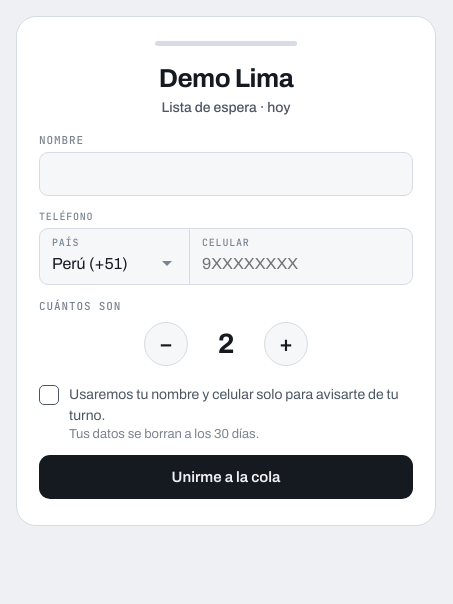
Scenario: JoinPage: errores al enviar › 429 con Retry-After 60s dice "en 1 minuto" (singular)
Check: the heading "Demo Lima" is shown, box [159,64,293,92]
Type "Ana Torres" into the field labelled "Nombre" at (226, 174), box [39,152,413,196]
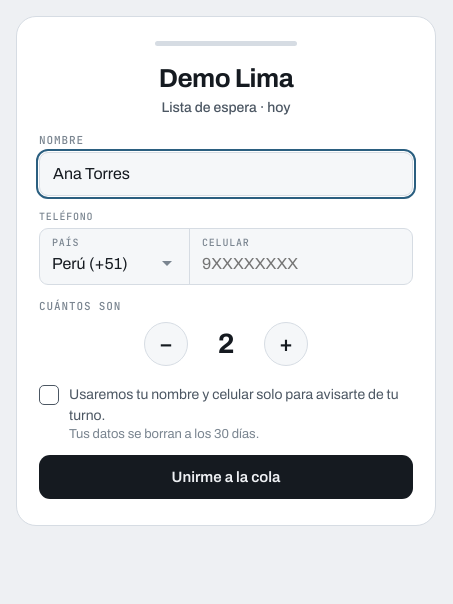
Type "987654321" into the field labelled "Celular" at (301, 264), box [202,251,400,277]
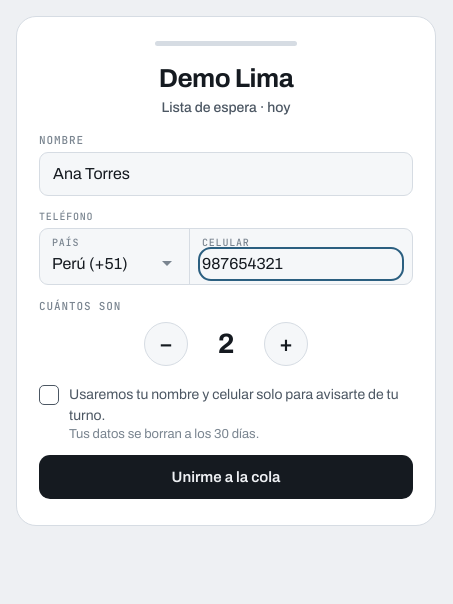
Click the checkbox at (49, 395), box [39,385,59,405]
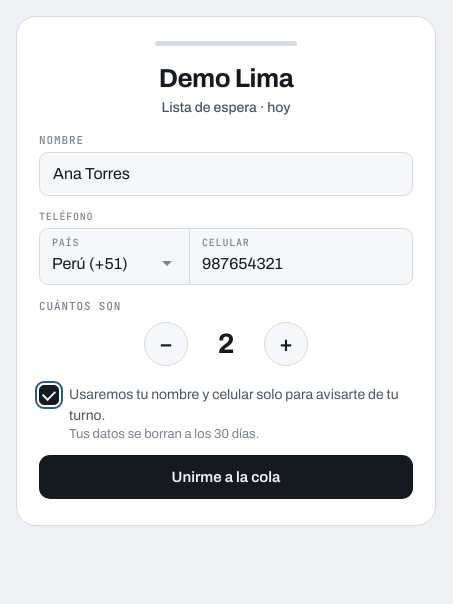
Click the button "Unirme a la cola" at (226, 477), box [39,455,413,499]
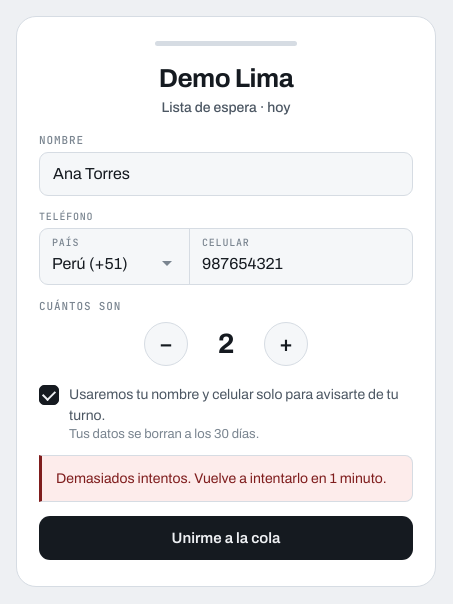
Check: the text "Demasiados intentos. Vuelve a intentarlo en 1 minuto." is shown, box [39,455,413,502]
